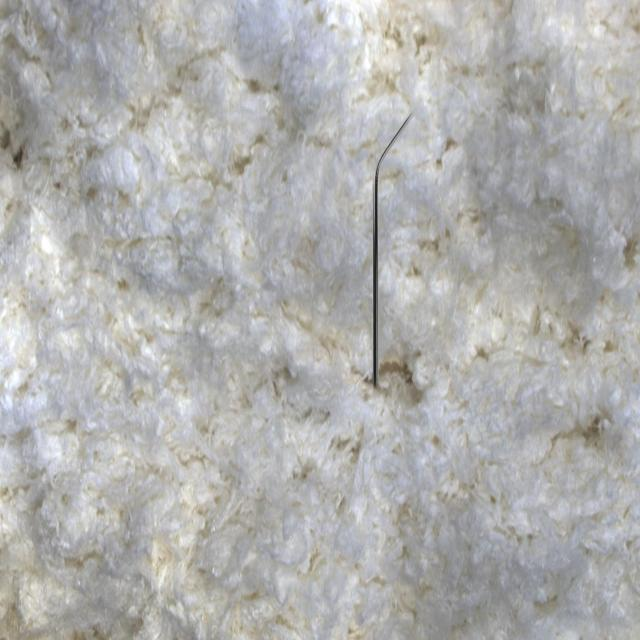dust: (327, 80, 434, 427)
